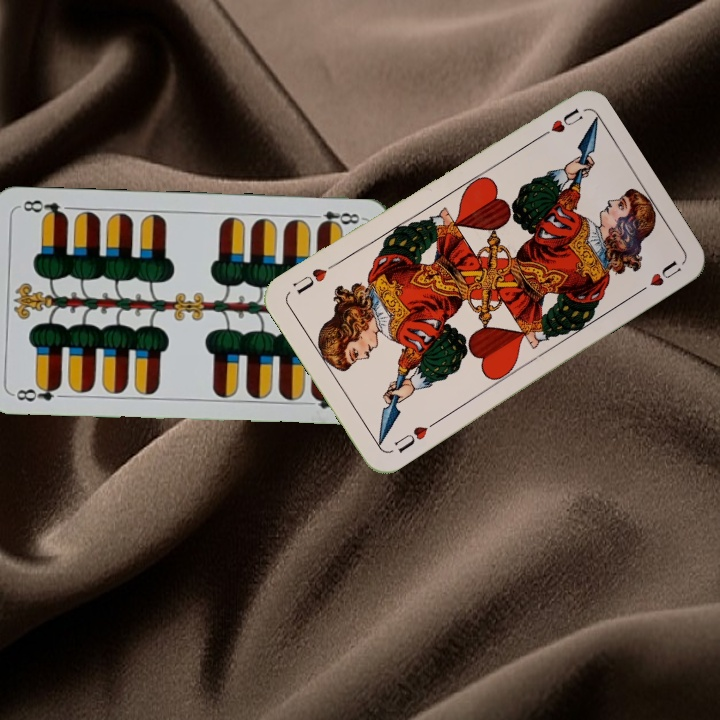E8: (306, 207, 365, 230), (10, 380, 64, 405)
HU: (531, 104, 586, 143), (390, 417, 439, 456)
